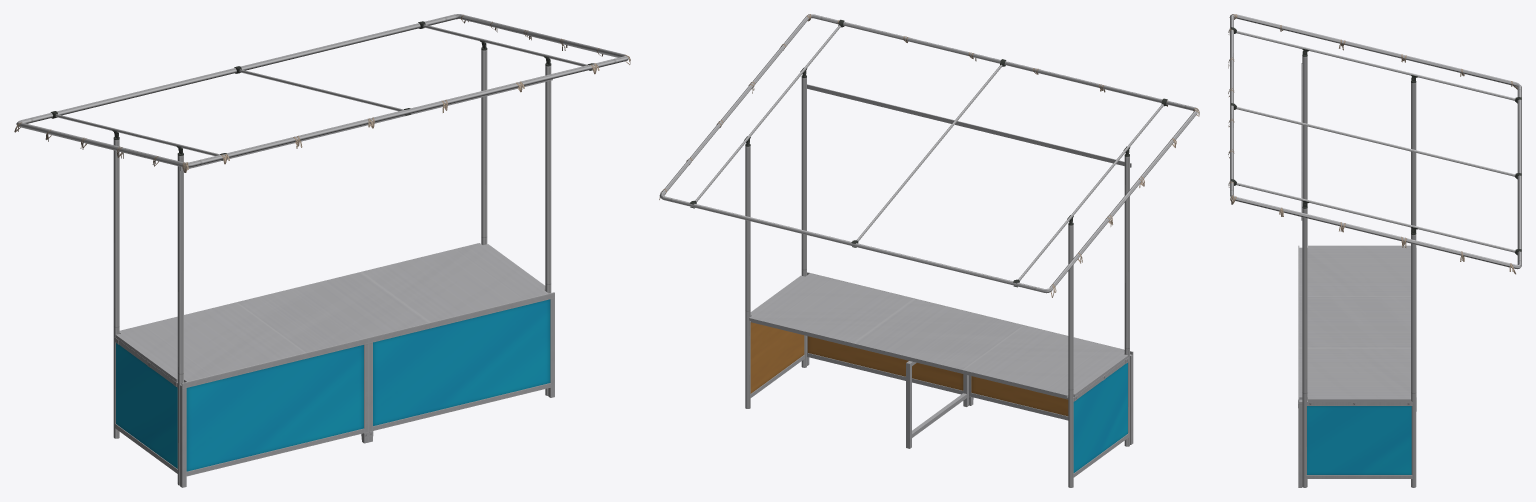
File: jsf_4P_s03_c02_t01.fbx
3 views of the same model, side by side, from view 1: azimuth 30°, elevation 25°; view 2: azimuth 150°, elevation 25°; view 3: azimuth 270°, elevation 25° (orthographic). The views are drawn at different scales.
Parts seen in each view (by area): view 1: Base_s03_c02, Table_4P_s03_t01, Pillar4_s03, Rope_4P_s03; view 2: Table_4P_s03_t01, Pillar4_s03, Base_s03_c02, Support; view 3: Table_4P_s03_t01, Pillar4_s03, Base_s03_c02, Rope_4P_s03.
Part boxes in pixels (x1=…): Base_s03_c02: x1=114, y1=292, x2=554, y2=487; Table_4P_s03_t01: x1=115, y1=243, x2=548, y2=386; Pillar4_s03: x1=16, y1=14, x2=628, y2=485; Rope_4P_s03: x1=14, y1=14, x2=630, y2=172; Table_4P_s03_t01: x1=749, y1=273, x2=1128, y2=400; Pillar4_s03: x1=659, y1=14, x2=1198, y2=487; Base_s03_c02: x1=750, y1=272, x2=1133, y2=477; Support: x1=906, y1=361, x2=968, y2=448; Table_4P_s03_t01: x1=1299, y1=245, x2=1416, y2=405; Pillar4_s03: x1=1230, y1=14, x2=1521, y2=487; Base_s03_c02: x1=1298, y1=245, x2=1412, y2=487; Rope_4P_s03: x1=1228, y1=14, x2=1517, y2=274.
Bounding box in the file's own units: 316 × 243 × 211.
